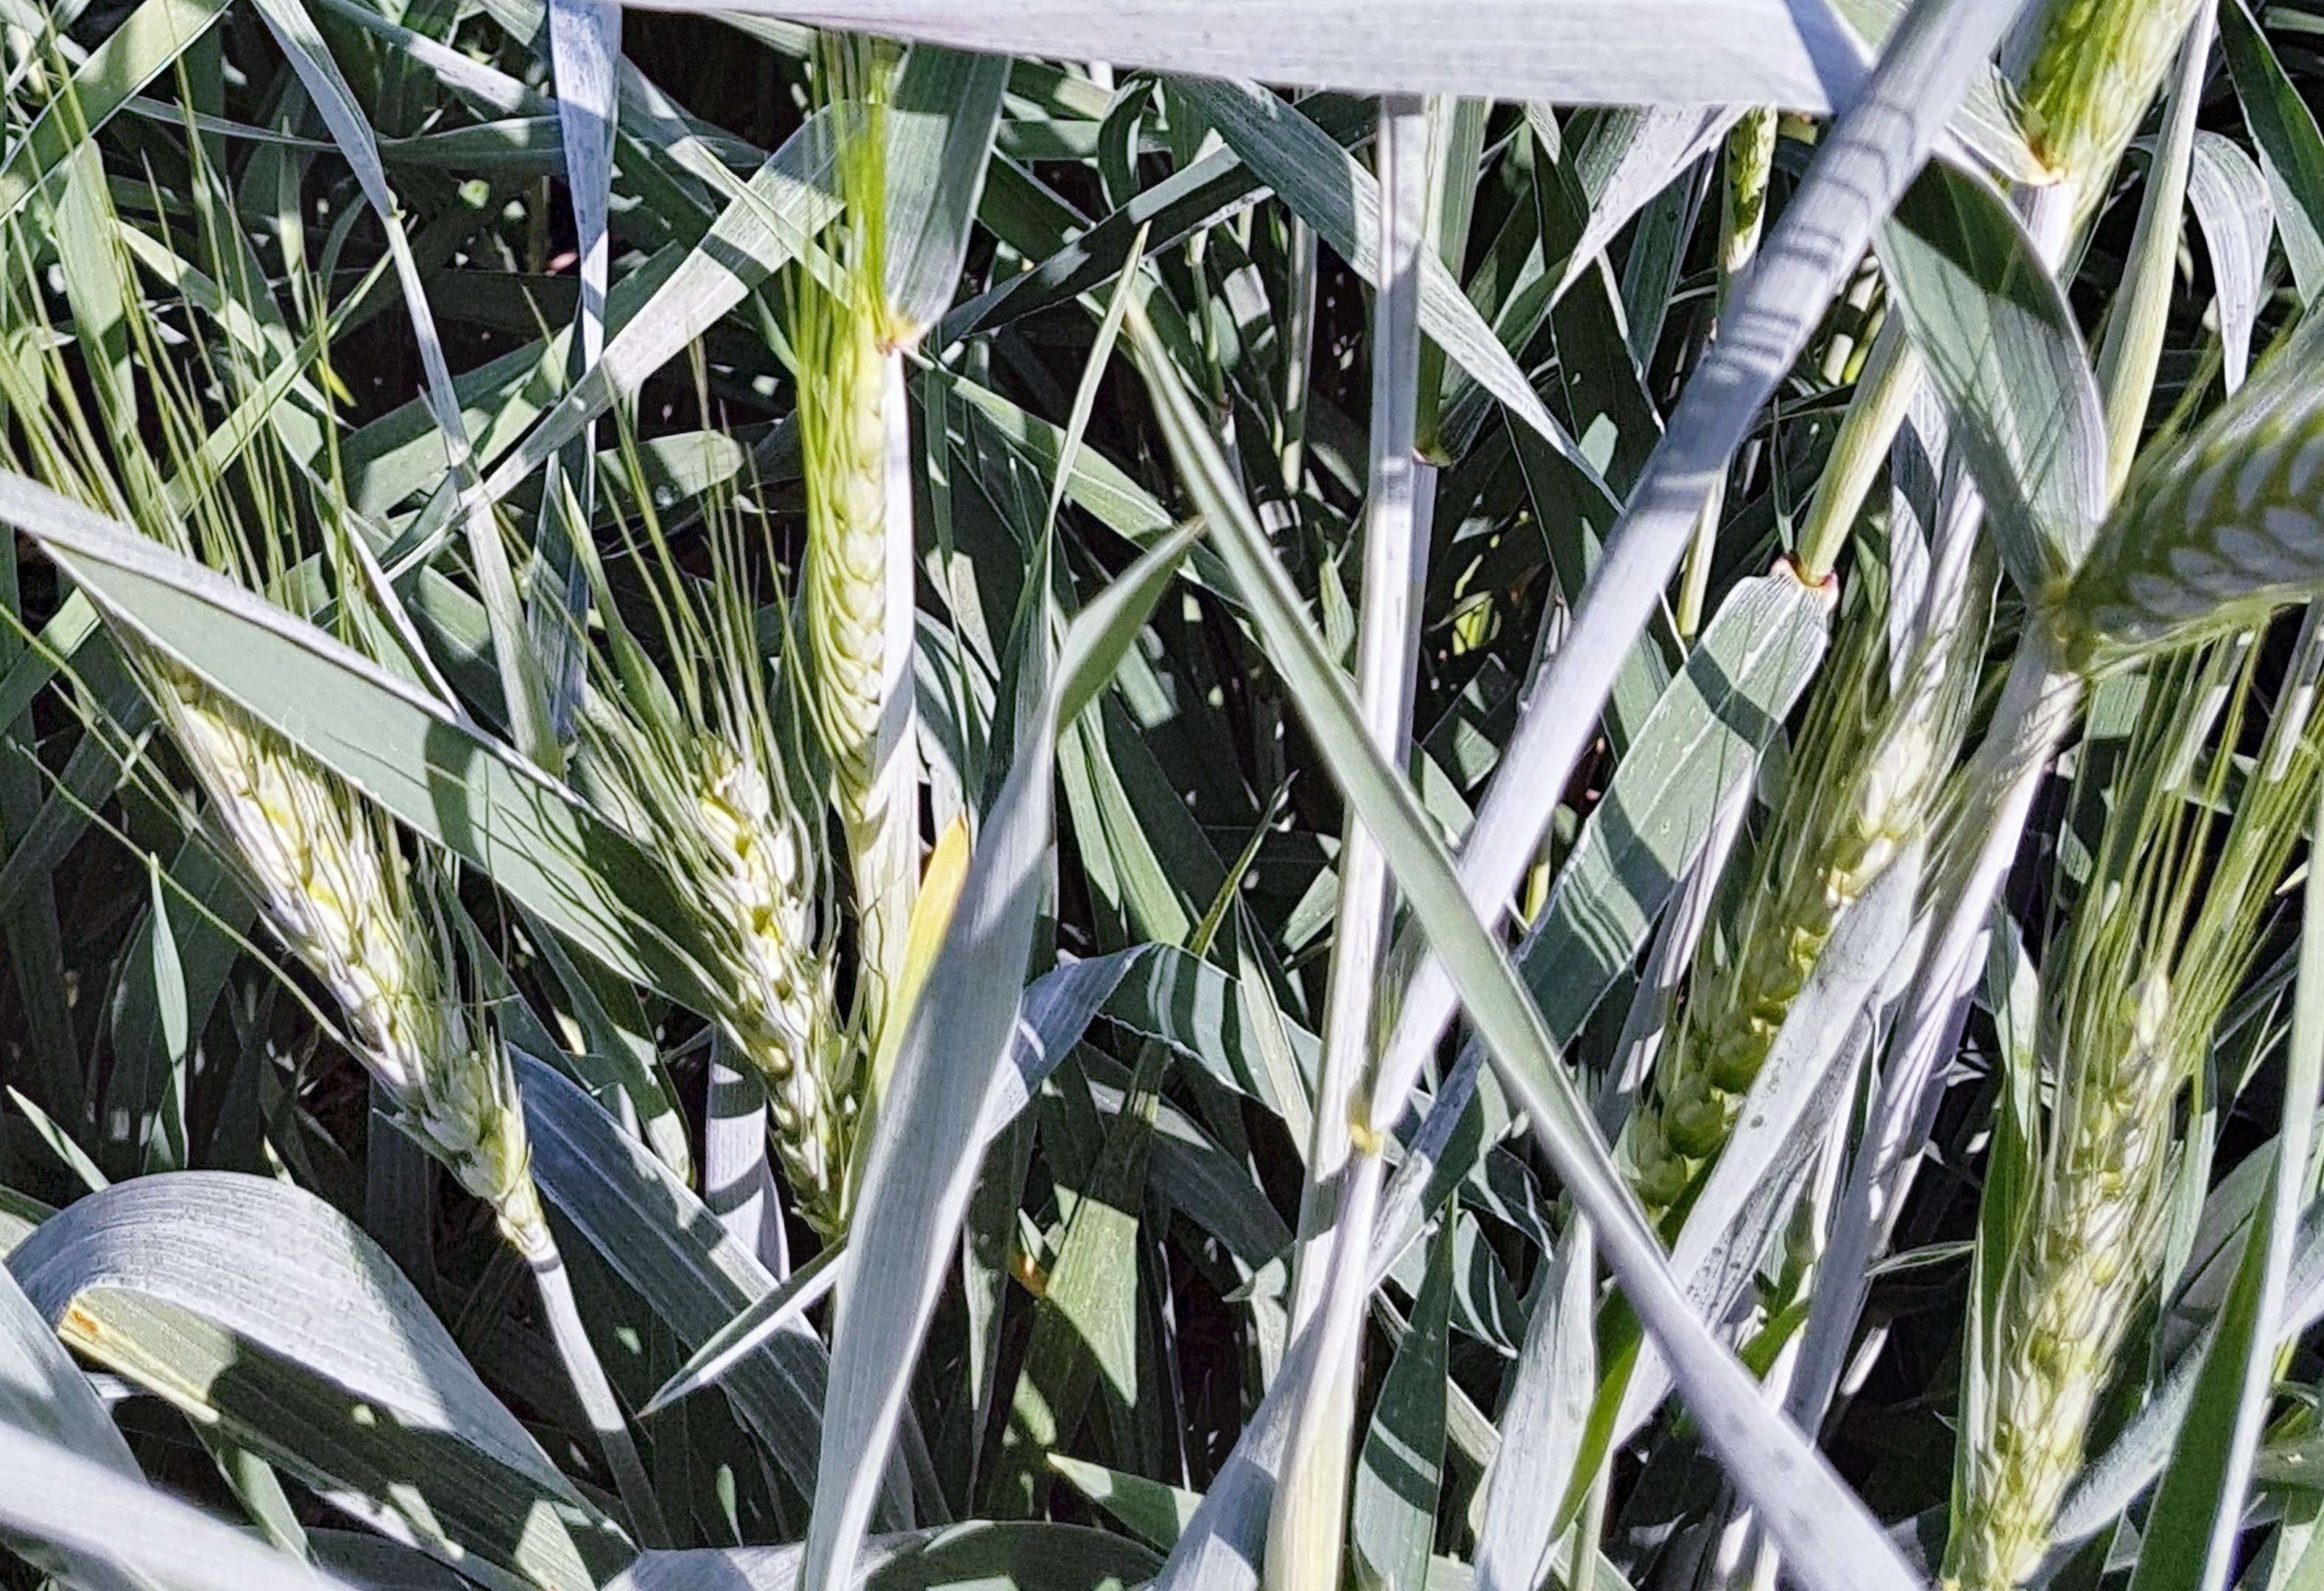Healthy Wheat: (1960, 938, 2213, 1550), (638, 761, 874, 1201)
